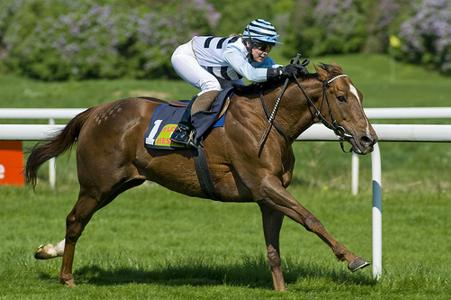person: (170, 19, 306, 150)
